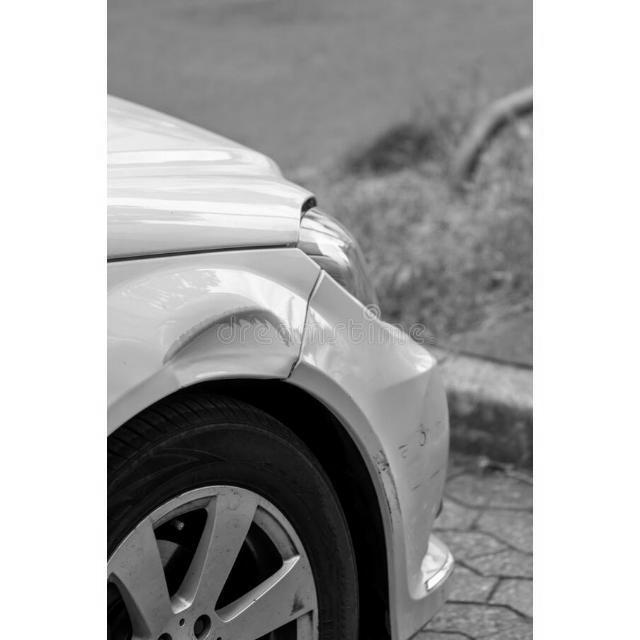fender-dent: (108, 243, 307, 527)
front-bumper-dent: (307, 280, 469, 635)
